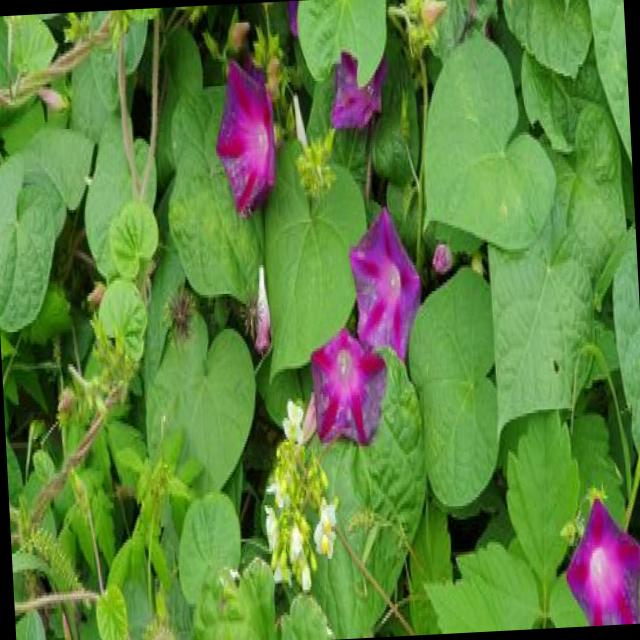ipomoea: (298, 200, 432, 454), (254, 394, 346, 600), (343, 200, 427, 368), (208, 50, 282, 226), (305, 320, 392, 454), (558, 488, 640, 625), (324, 44, 391, 140)
